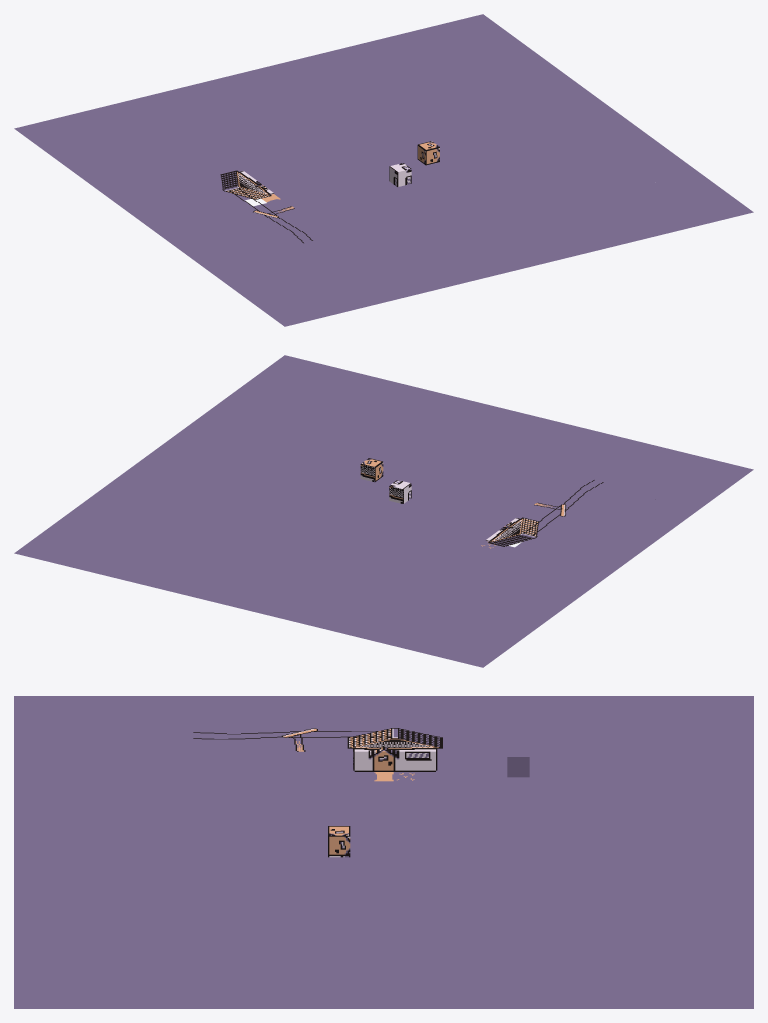
File: map_export.gltf
3 renders of one model, top to bottom at view 1: azimuth 30°, elevation 25°; view 2: azimuth 150°, elevation 25°; view 3: azimuth 270°, elevation 25°, orthographic. The views are drawn at different scales.
Visible parts, largest first — view 1: default; view 2: default; view 3: default.
Part boxes in pixels (left/top/right/bottom): default: left=14, top=14, right=753, bottom=326; default: left=14, top=355, right=753, bottom=667; default: left=14, top=696, right=753, bottom=1008.
Bounding box in the file's own units: 33 × 6 × 33.
Materials: 1 (1 with a texture image).
